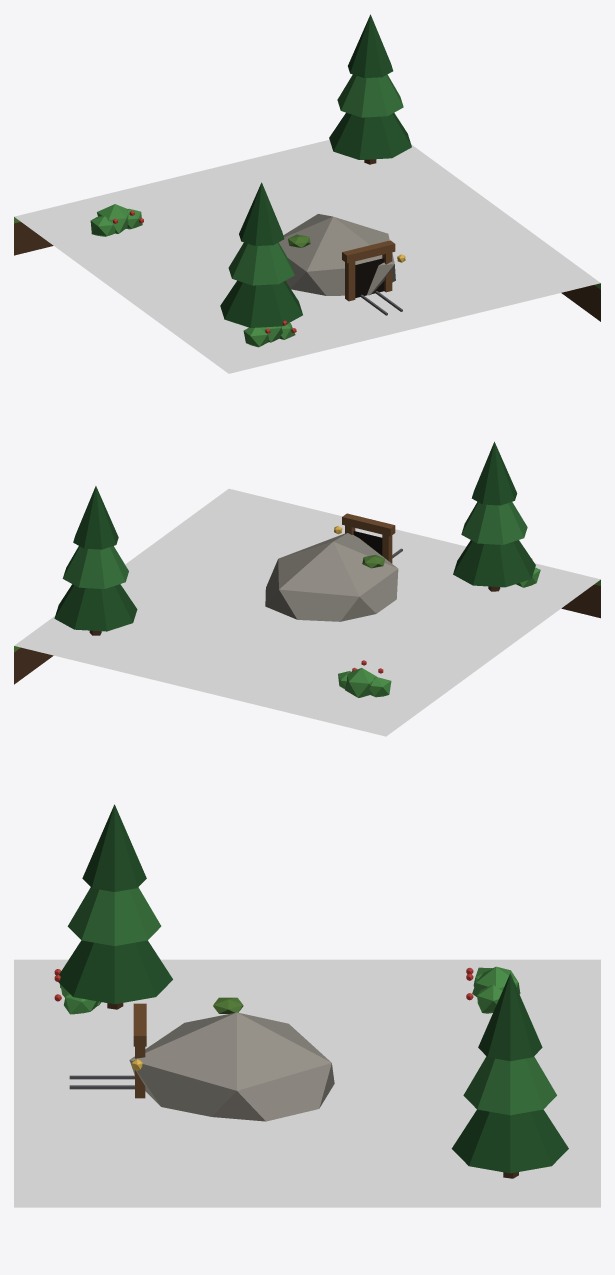
File: rMine.glb
The picture shows the model from 3 angles, top to bottom: view 1: azimuth 30°, elevation 25°; view 2: azimuth 150°, elevation 25°; view 3: azimuth 270°, elevation 25°; orthographic projection. The views are drawn at different scales.
Parts seen in each view (by area): view 1: rMine; view 2: rMine; view 3: rMine.
Boxes of the visible parts, x1,y1,x2,y2 form: rMine: (14, 14, 600, 373); rMine: (14, 441, 600, 736); rMine: (14, 804, 600, 1207).
Bounding box in the file's own units: 2 × 1.08 × 2.
